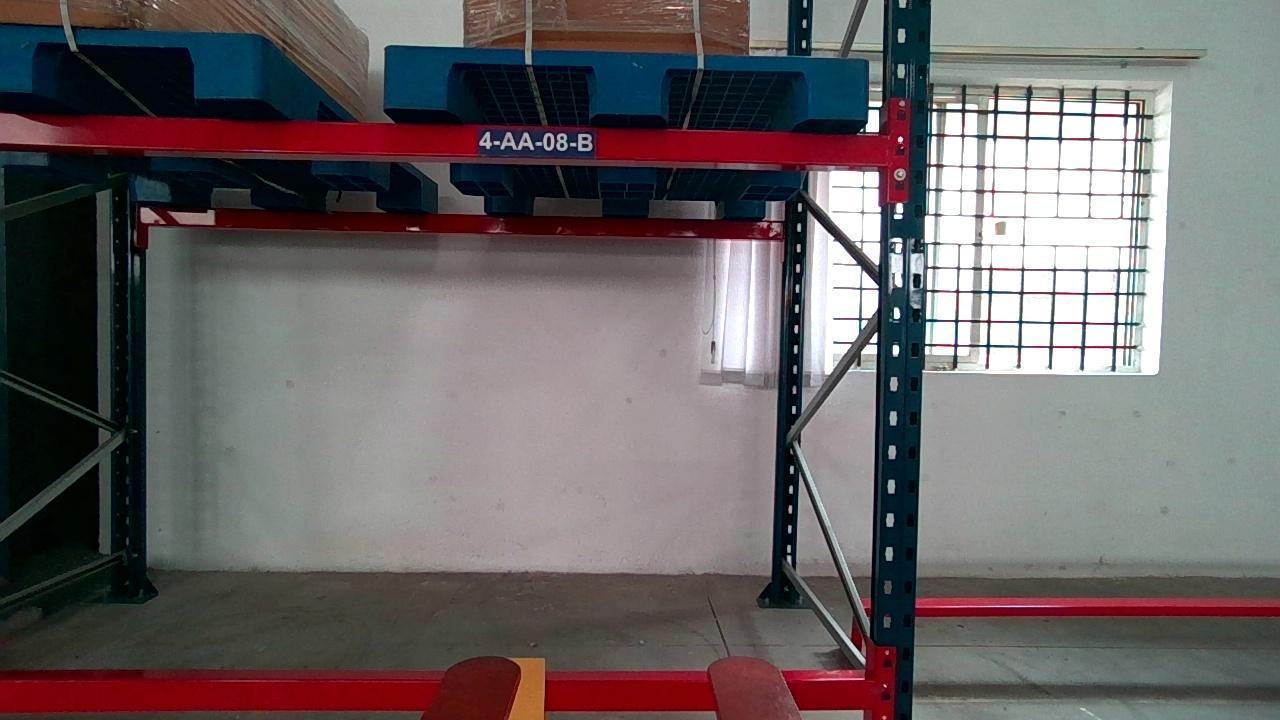h_rack: (0, 111, 892, 166), (4, 678, 866, 712)
small_pallet: (381, 46, 868, 121), (1, 26, 264, 95)
